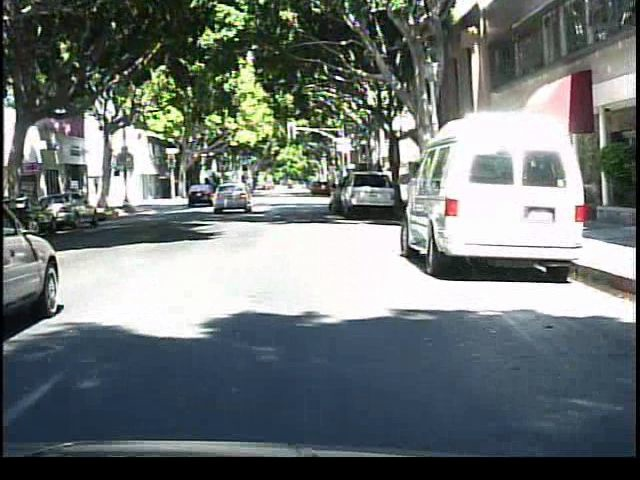person: (226, 171, 248, 205)
